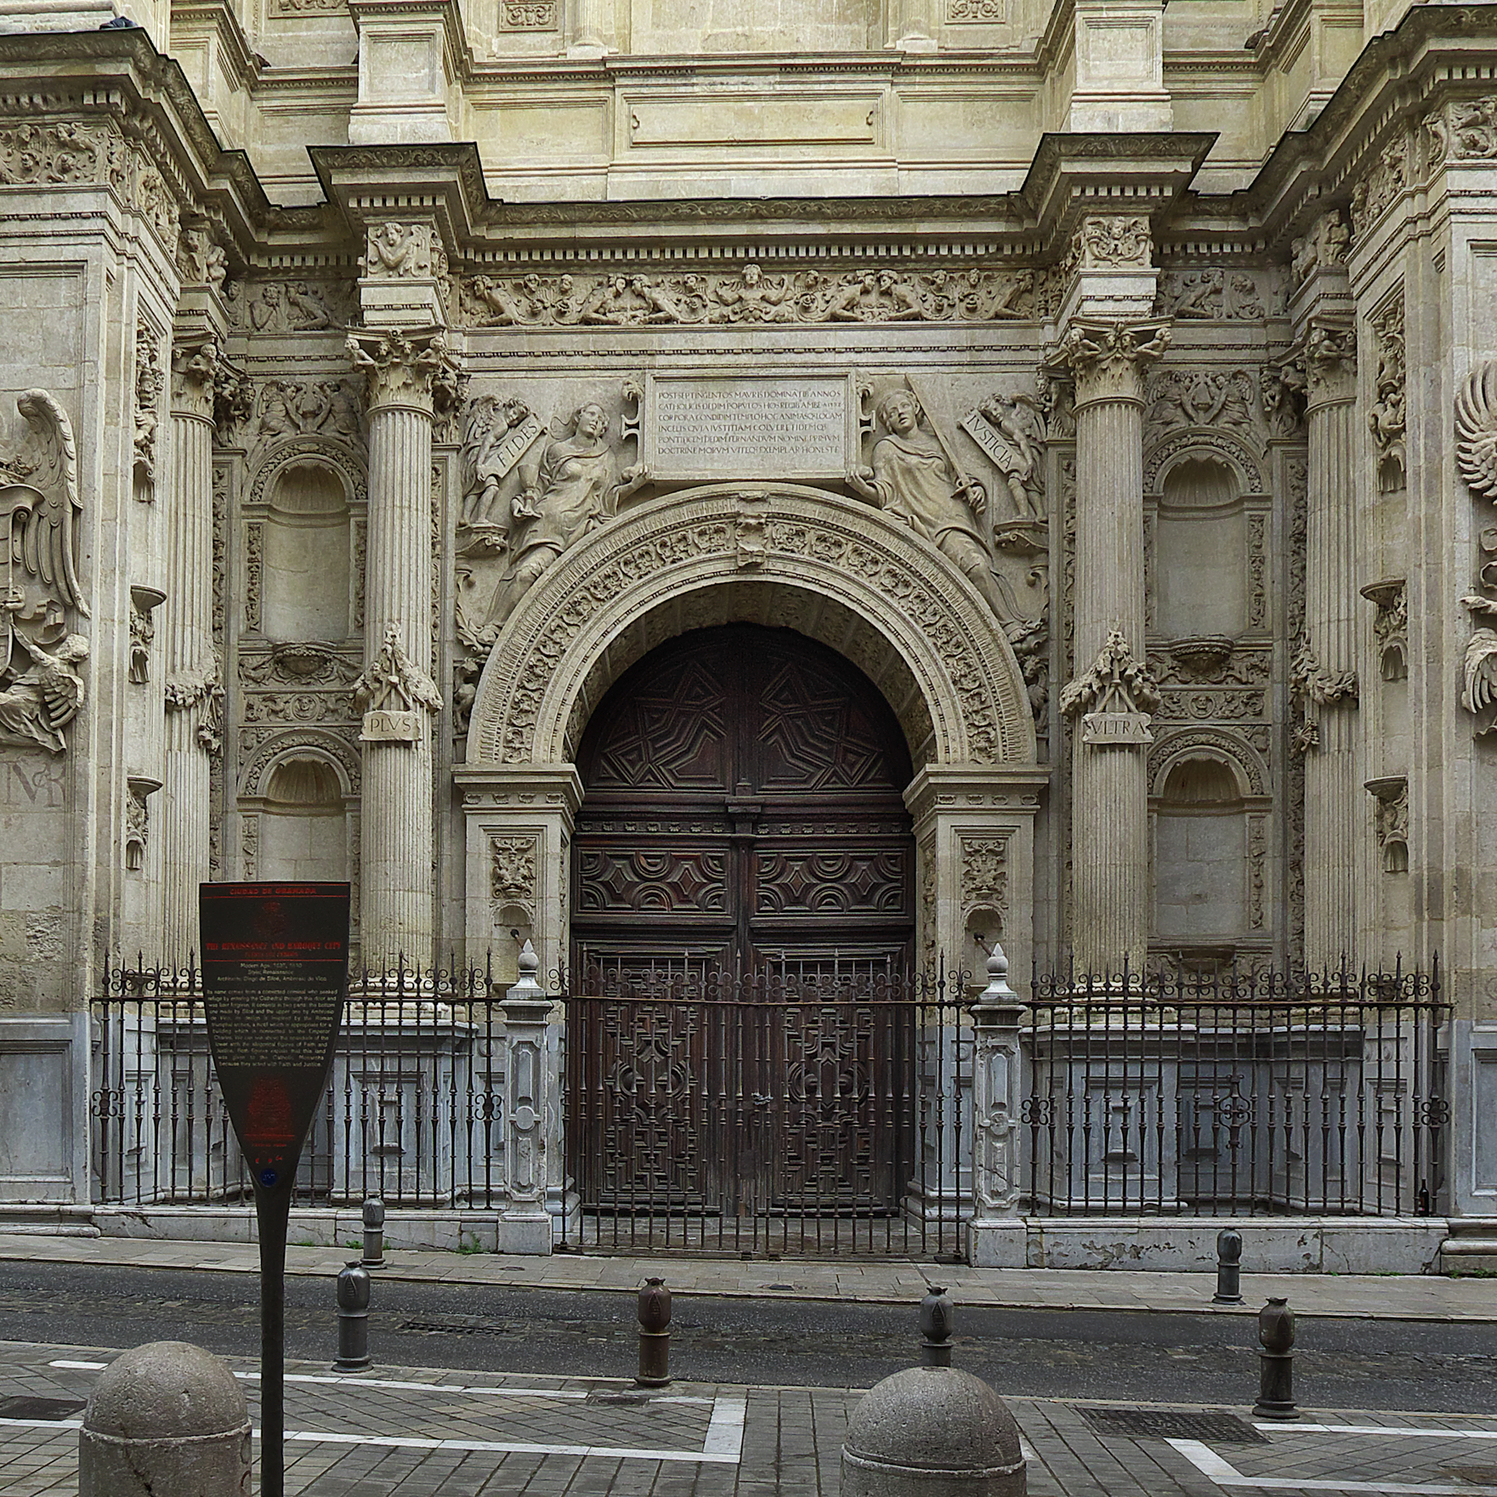arco-medio-punto: (540, 562, 962, 847)
